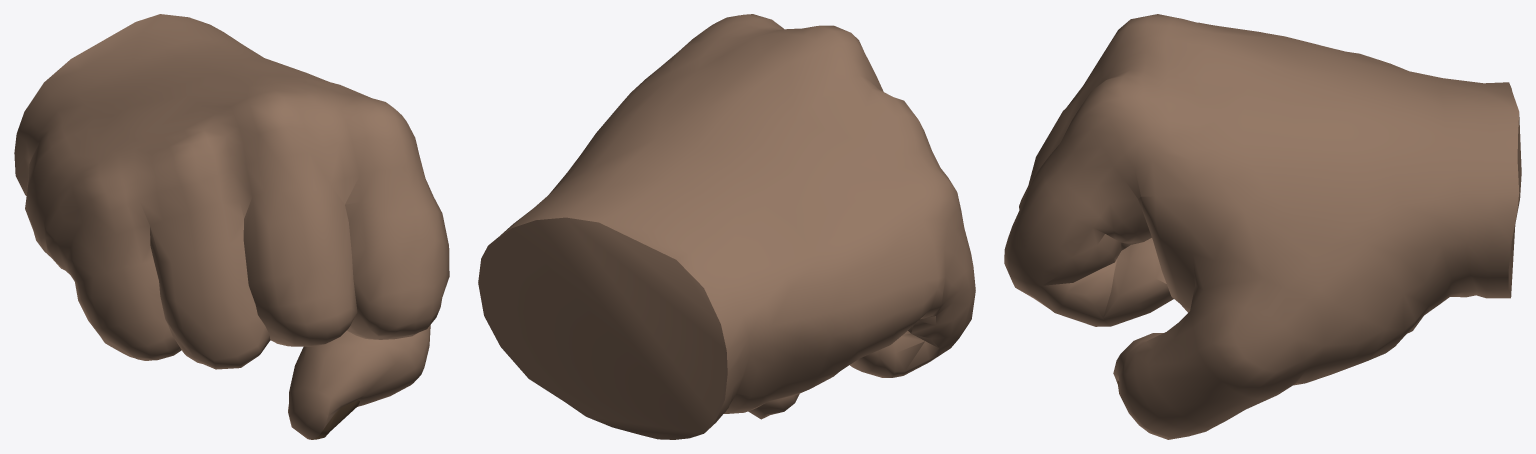
File: fist.glb
3 views of the same model, side by side, from view 1: azimuth 30°, elevation 25°; view 2: azimuth 150°, elevation 25°; view 3: azimuth 270°, elevation 25° (orthographic). The views are drawn at different scales.
Visible parts, largest first — view 1: flesh, nails; view 2: flesh; view 3: flesh.
Boxes of the visible parts, x1,y1,x2,y2 form: flesh: (14,14,449,439); nails: (312,400,359,439); flesh: (478,14,975,439); flesh: (1004,14,1521,439).
Bounding box in the file's own units: 0.1 × 0.091 × 0.114.
